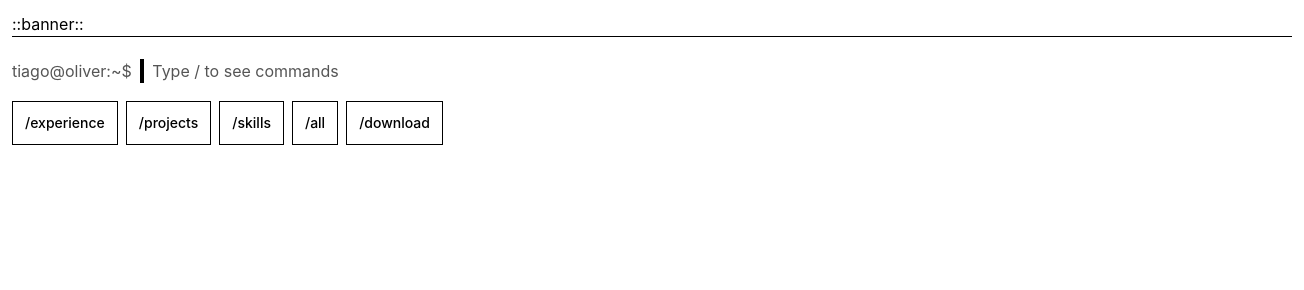
Terminal › Given download, should start the PDF download and offer a fallback link
The width and height of the screenshot is (1304, 290).
Click the button "/download".
click(395, 123)  # box [346, 101, 443, 145]
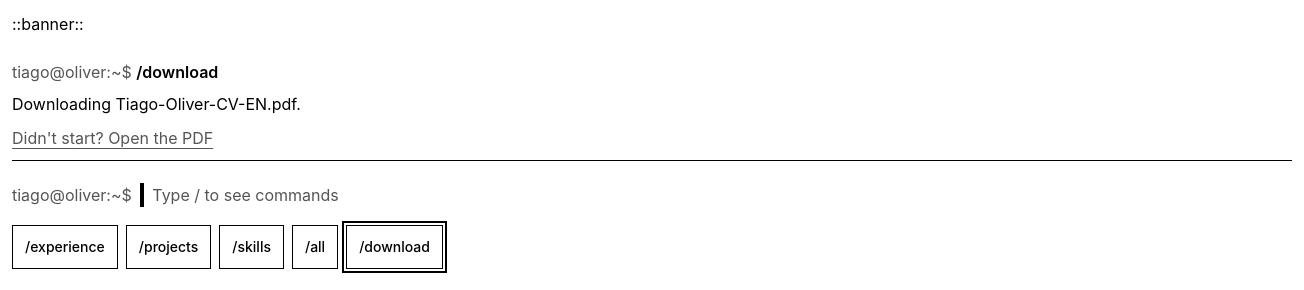
Check: the text "Downloading Tiago-Oliver-CV-EN.pdf." is shown, box [12, 94, 301, 114]
